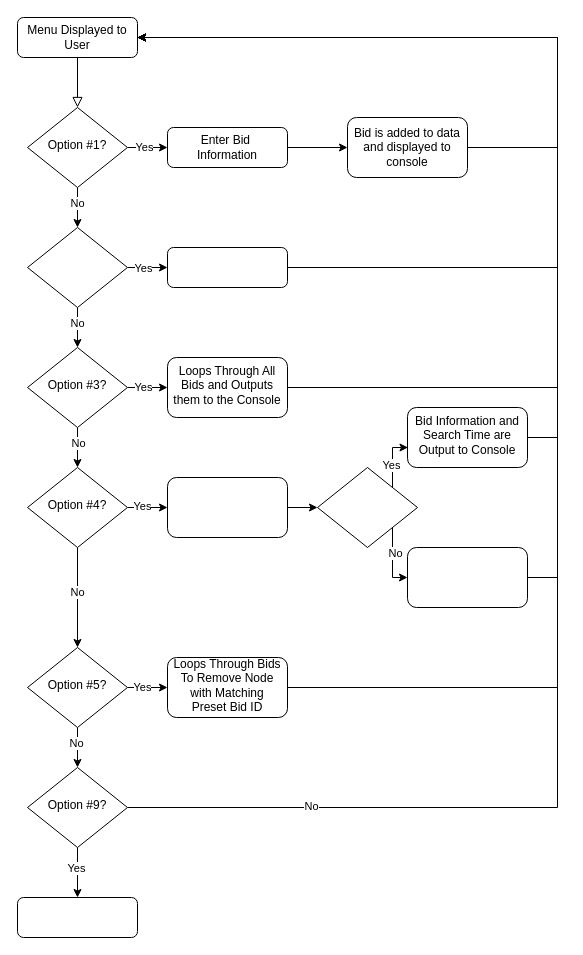
Some shapes in this 583 by 955 pixel diagram are drawn without their labels. Here are the shapes that lost their labels. From the top down, the box of each, then its label:
(26, 226, 128, 308): Option #2?
(166, 246, 288, 288): Load Bids from File
(166, 476, 288, 538): Loops Through Bids To Match with Preset Bid ID
(316, 466, 418, 548): ID Found?
(406, 546, 528, 608): Outputs Search Time and "Bid Not Found" to Console
(16, 896, 138, 938): Program Terminates
